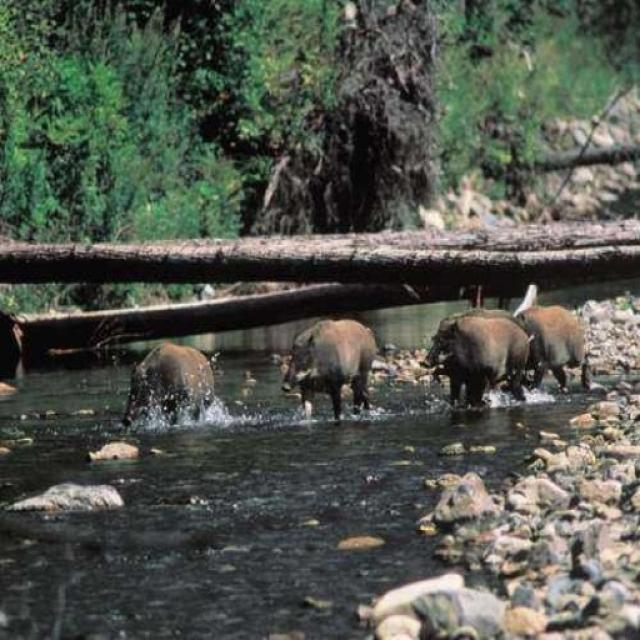pig: (407, 291, 541, 422), (99, 330, 236, 424), (286, 311, 395, 422), (519, 302, 594, 394)
